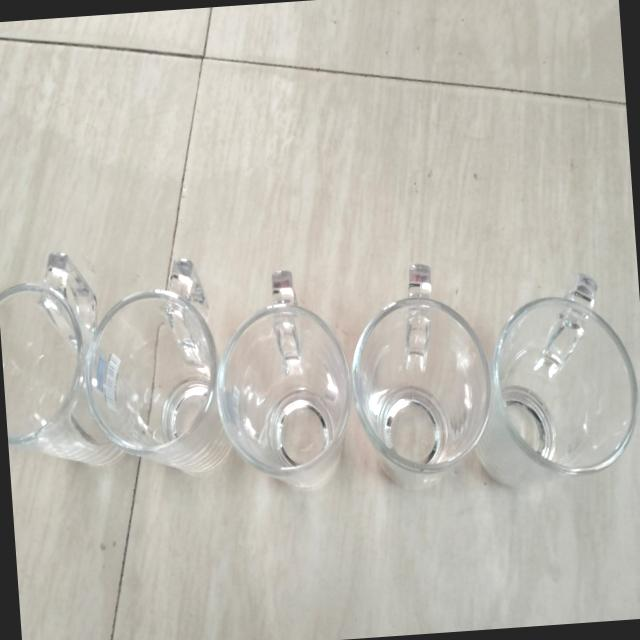glass-VX4N: (480, 266, 640, 511), (346, 260, 500, 500), (210, 246, 358, 494), (78, 245, 221, 501), (0, 246, 101, 510)
